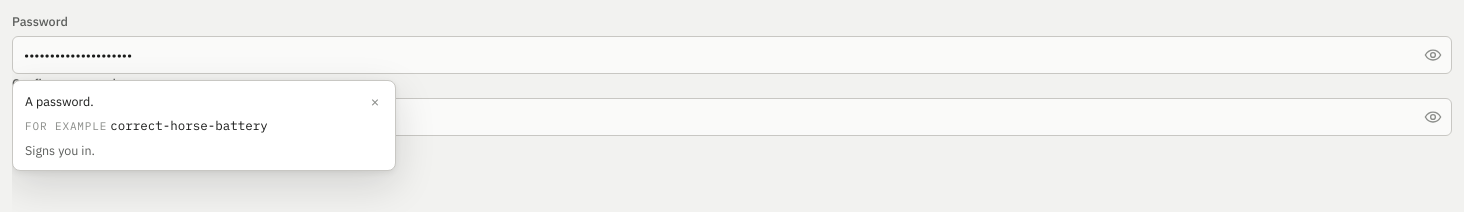
it: password reveal toggle › keeps two fields independent, because they are separate secrets
The width and height of the screenshot is (1464, 212).
Click the button named "Show password" at [1433, 55], box [1415,37,1451,73]
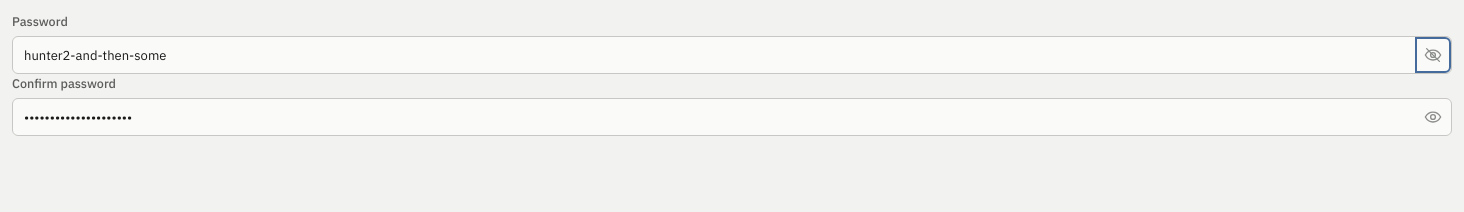
Check: the field labelled "Password" shows its text, box [12,36,1452,74]
